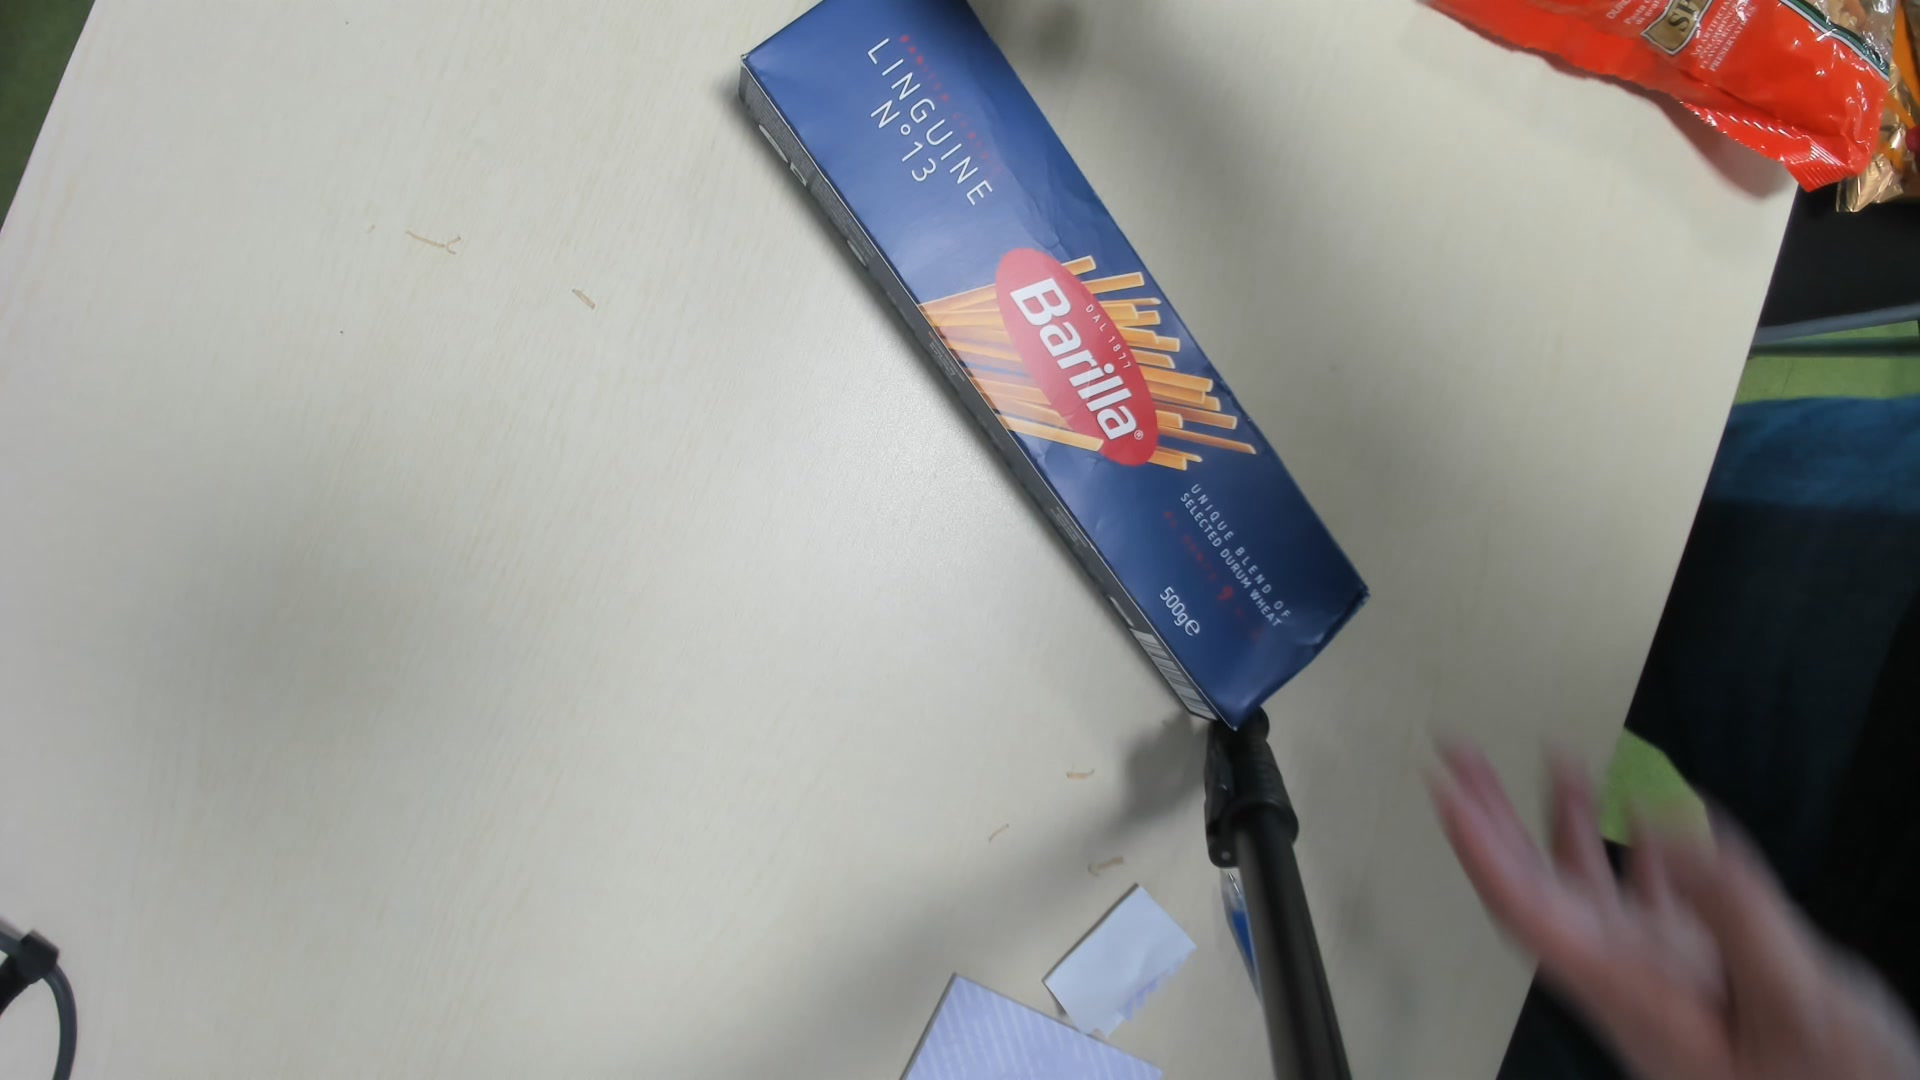Pasta_500-599g_NonHalal_NonHealthy: (729, 1, 1375, 728)
